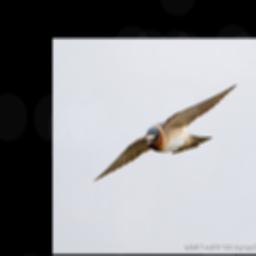Swallow: (93, 81, 239, 181)
